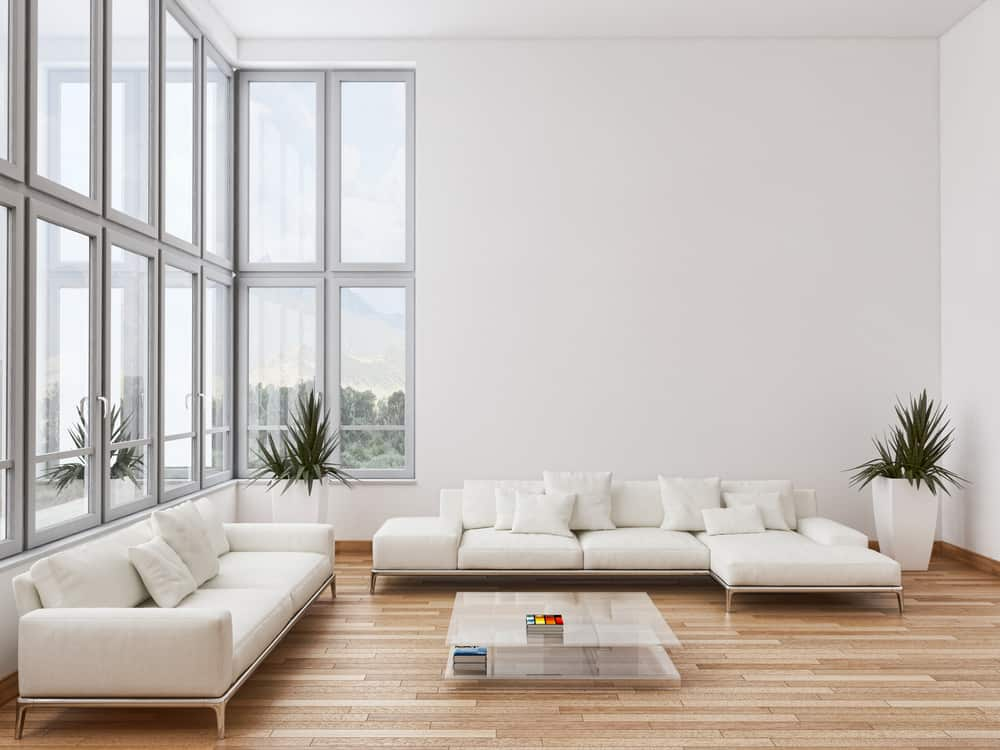large plant: (857, 385, 959, 572), (256, 391, 341, 521)
sofa: (10, 493, 344, 742), (364, 470, 909, 615)
table: (442, 587, 687, 692)
